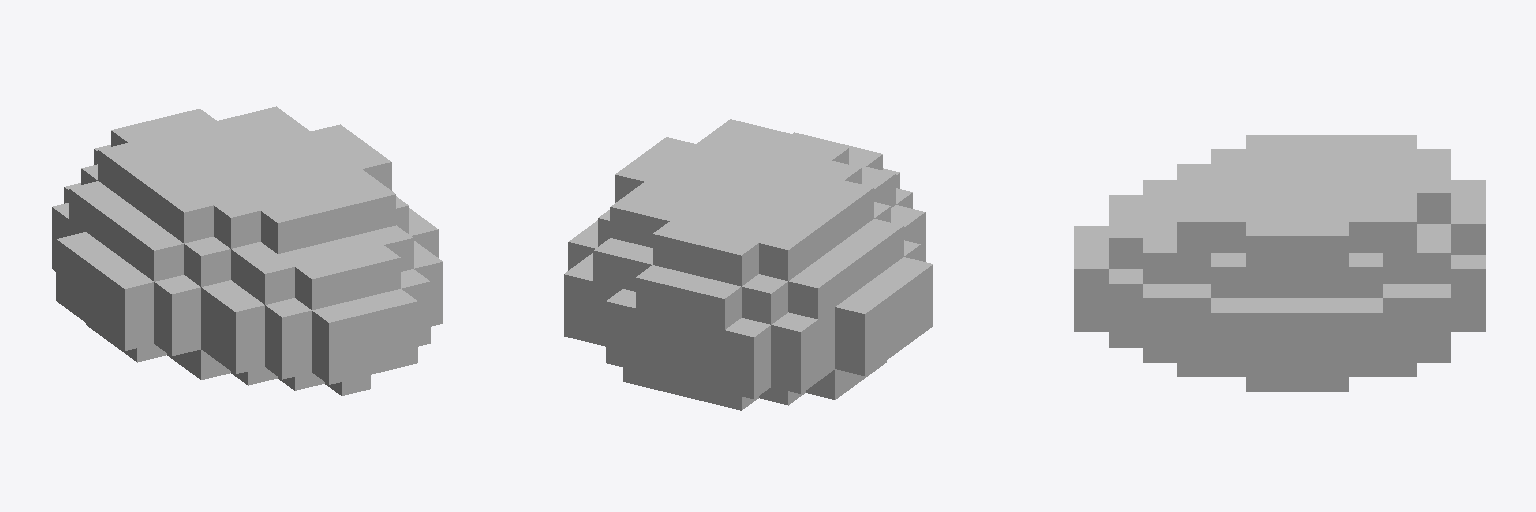
Rendered from potato (2).obj.
3 views of the same model, side by side, from view 1: azimuth 30°, elevation 25°; view 2: azimuth 150°, elevation 25°; view 3: azimuth 270°, elevation 25° (orthographic).
Parts seen in each view (by area): view 1: object 1; view 2: object 1; view 3: object 1.
Part boxes in pixels (bbox=[...]): object 1: bbox=[52, 106, 442, 395]; object 1: bbox=[564, 119, 932, 410]; object 1: bbox=[1074, 135, 1485, 391].
Bounding box in the file's own units: 1 × 0.5 × 1.2.